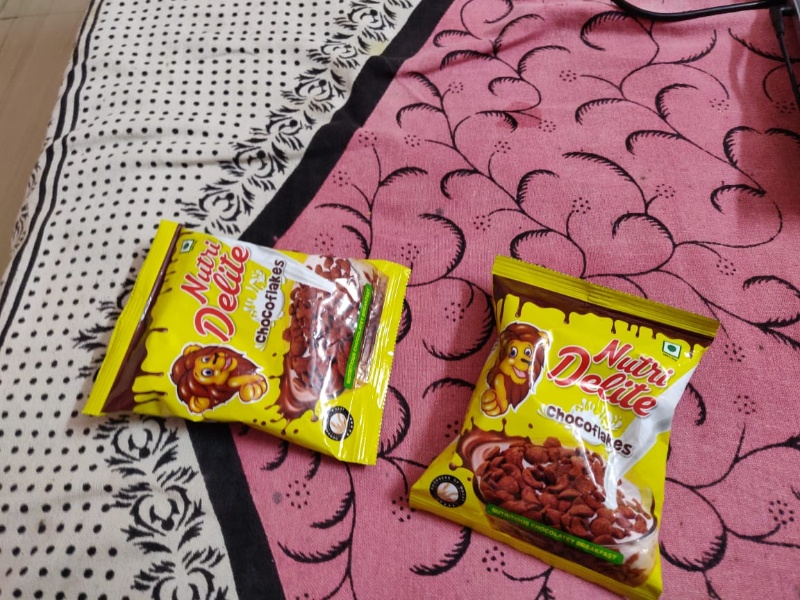nutriDelite: (432, 259, 679, 588), (94, 226, 402, 472)
